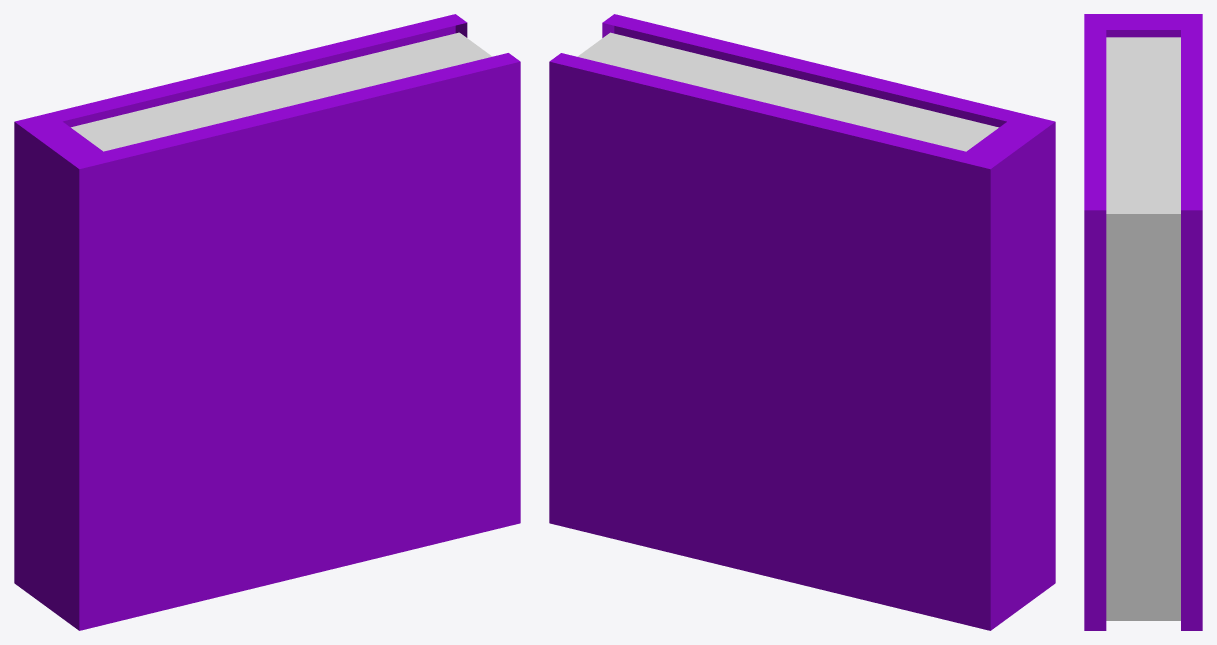
File: Book.fbx
3 renders of one model, left to right at view 1: azimuth 30°, elevation 25°; view 2: azimuth 150°, elevation 25°; view 3: azimuth 270°, elevation 25°, orthographic. The views are drawn at different scales.
Visible parts, largest first — view 1: Book; view 2: Book; view 3: Book.
Part boxes in pixels (x1,y1,x2,y2): Book: [14, 14, 520, 630]; Book: [549, 14, 1055, 630]; Book: [1084, 14, 1202, 630].
Bounding box in the file's own units: 27.32 × 27.32 × 6.98.
